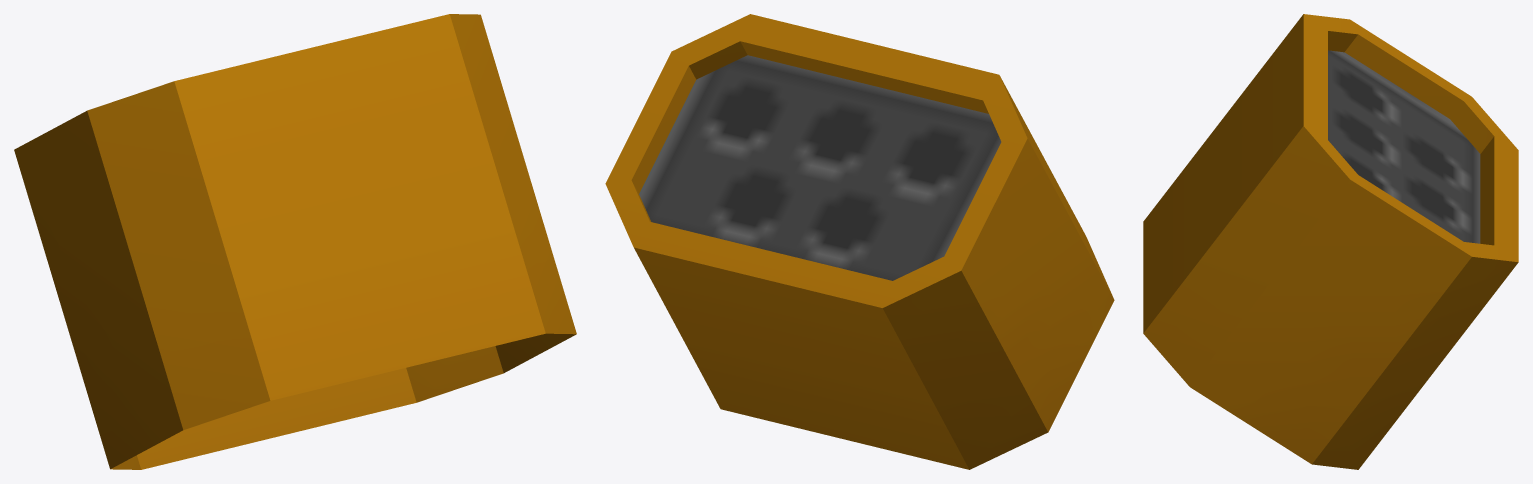
File: RocketLauncher1Enemy5.fbx
The picture shows the model from 3 angles, left to right: view 1: azimuth 30°, elevation 25°; view 2: azimuth 150°, elevation 25°; view 3: azimuth 270°, elevation 25°; orthographic projection. The views are drawn at different scales.
Parts seen in each view (by area): view 1: RocketLauncher1Enemy5; view 2: RocketLauncher1Enemy5; view 3: RocketLauncher1Enemy5.
Part boxes in pixels (x1,y1,x2,y2): RocketLauncher1Enemy5: (14, 14, 576, 469); RocketLauncher1Enemy5: (605, 14, 1114, 469); RocketLauncher1Enemy5: (1143, 14, 1518, 469).
Bounding box in the file's own units: 0.4771 × 0.4813 × 0.4825.
